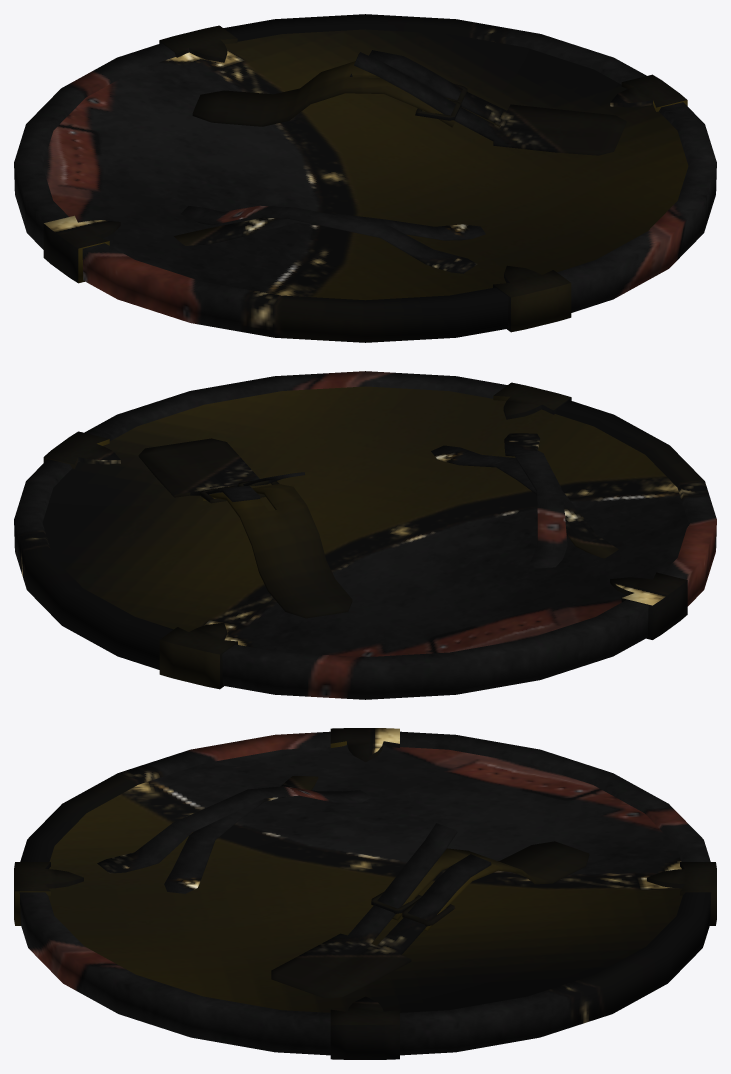
Rendered from ThunderstormShield.fbx.
3 views of the same model, one above another, from view 1: azimuth 30°, elevation 25°; view 2: azimuth 150°, elevation 25°; view 3: azimuth 270°, elevation 25° (orthographic).
Visible parts, largest first — view 1: Object_2; view 2: Object_2; view 3: Object_2.
Boxes of the visible parts, x1,y1,x2,y2 form: Object_2: (14,14,716,342); Object_2: (14,371,716,699); Object_2: (14,728,716,1059).
Size of the model in its own units: 60.56 by 9.59 by 60.56.
